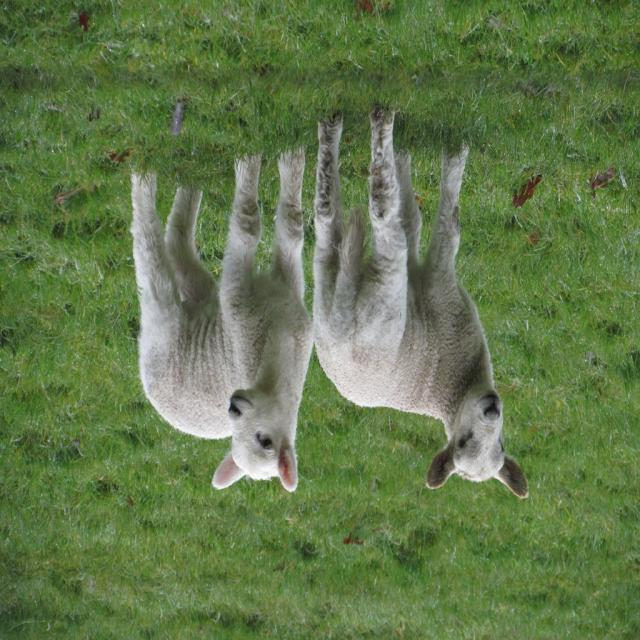Goat: (312, 102, 530, 501), (130, 144, 316, 495)
